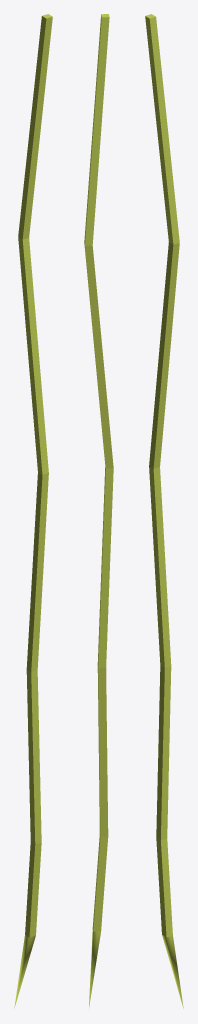
File: Liana2.FBX
3 views of the same model, side by side, from view 1: azimuth 90°, elevation 25°; view 2: azimuth 150°, elevation 25°; view 3: azimuth 270°, elevation 25° (orthographic).
Visible parts, largest first — view 1: Liana2; view 2: Liana2; view 3: Liana2.
Part boxes in pixels (x1,y1,x2,y2): Liana2: (14, 14, 52, 1008); Liana2: (84, 14, 113, 1009); Liana2: (145, 14, 183, 1008).
Size of the model in its own units: 0.2696 by 12.3 by 0.4345.
